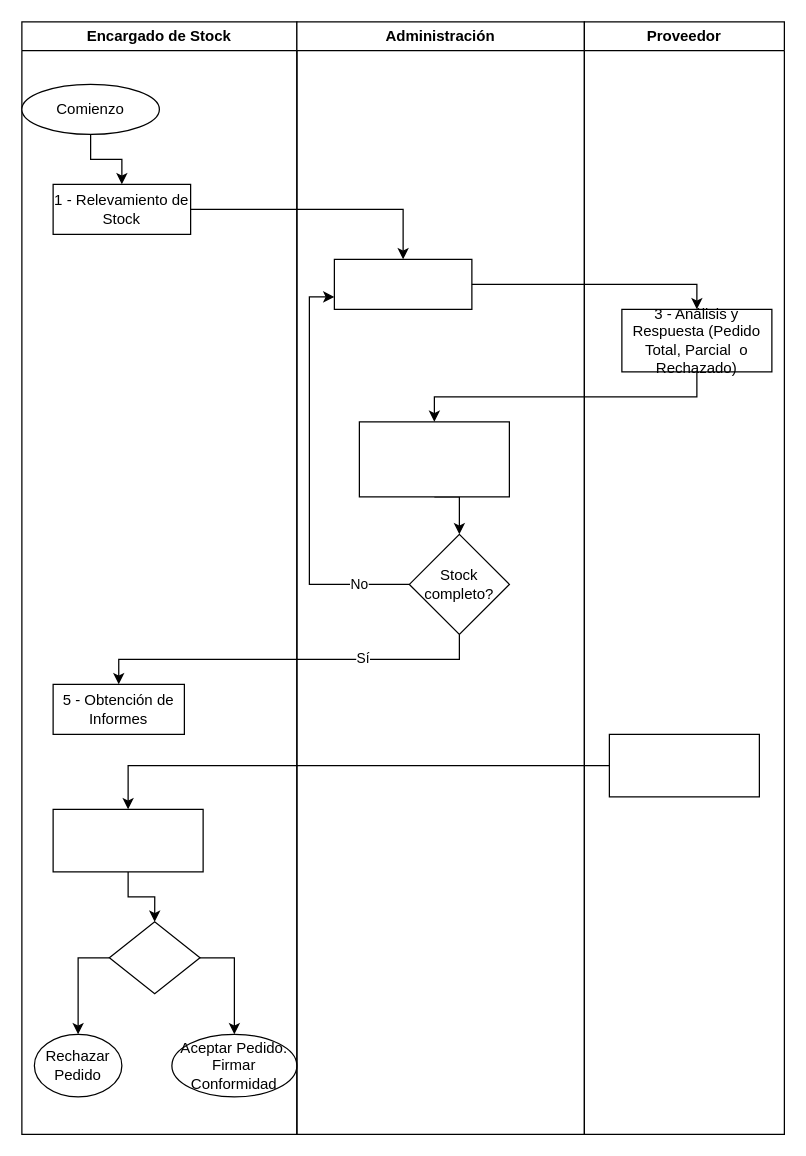
This 806x1156 diagram has some shape labels left out. The shapes that lost their labels are listed below. From the top down, each one's centre as x and y in pixels, then its label:
At (402,283): "2 - Contacto con Proveedores".
At (433,459): "4 - Pagos. Generación de Informe de Proveedor".
At (683,765): "6 - Envío de pedidos".
At (127,840): "7 - Control de envío utilizando informes".
At (154,957): "Ok".
